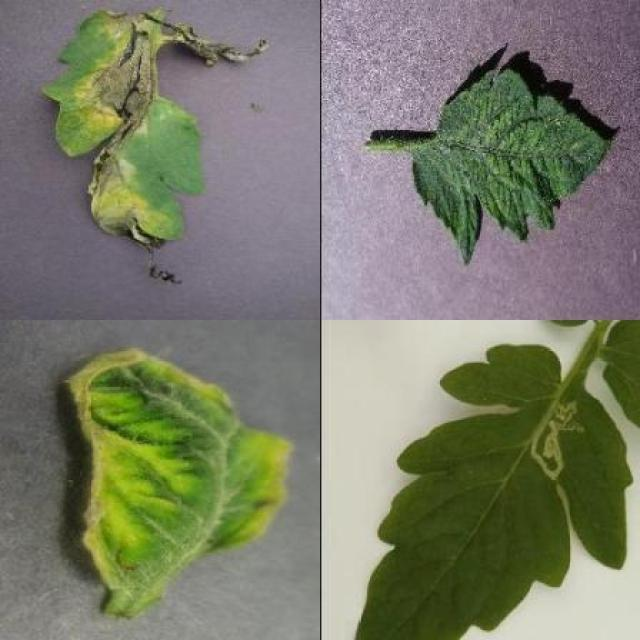Late Blight: (41, 8, 270, 283)
Leaf Miner: (354, 340, 632, 640)
Mosaic Virus: (410, 68, 610, 265)
Yellow Leaf Curl Virus: (65, 347, 295, 593)
